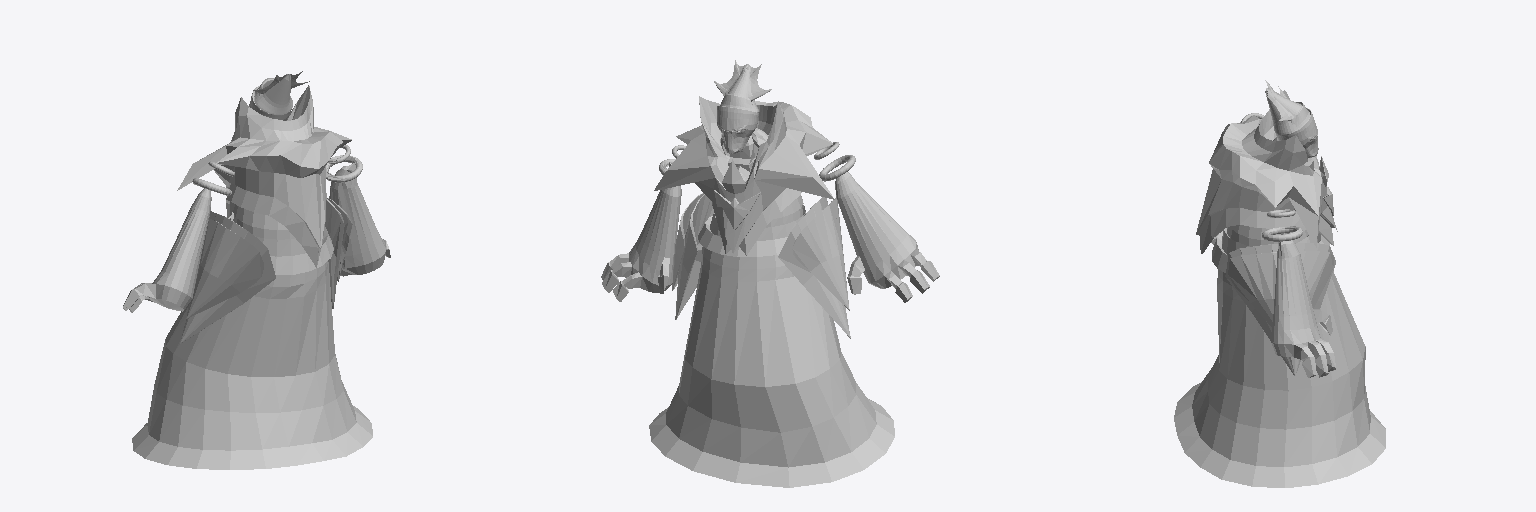
File: RATH_IDLE_24FPS.0091.obj
The picture shows the model from 3 angles: view 1: azimuth 30°, elevation 25°; view 2: azimuth 150°, elevation 25°; view 3: azimuth 270°, elevation 25°; orthographic projection.
Parts seen in each view (by area): view 1: pasted__pasted__pTorus3; view 2: pasted__pasted__pTorus3; view 3: pasted__pasted__pTorus3.
Boxes of the visible parts, x1=… form: pasted__pasted__pTorus3: x1=123, y1=71, x2=390, y2=469; pasted__pasted__pTorus3: x1=601, y1=60, x2=939, y2=487; pasted__pasted__pTorus3: x1=1174, y1=80, x2=1385, y2=487.
Bounding box in the file's own units: 149 × 174 × 91.05.